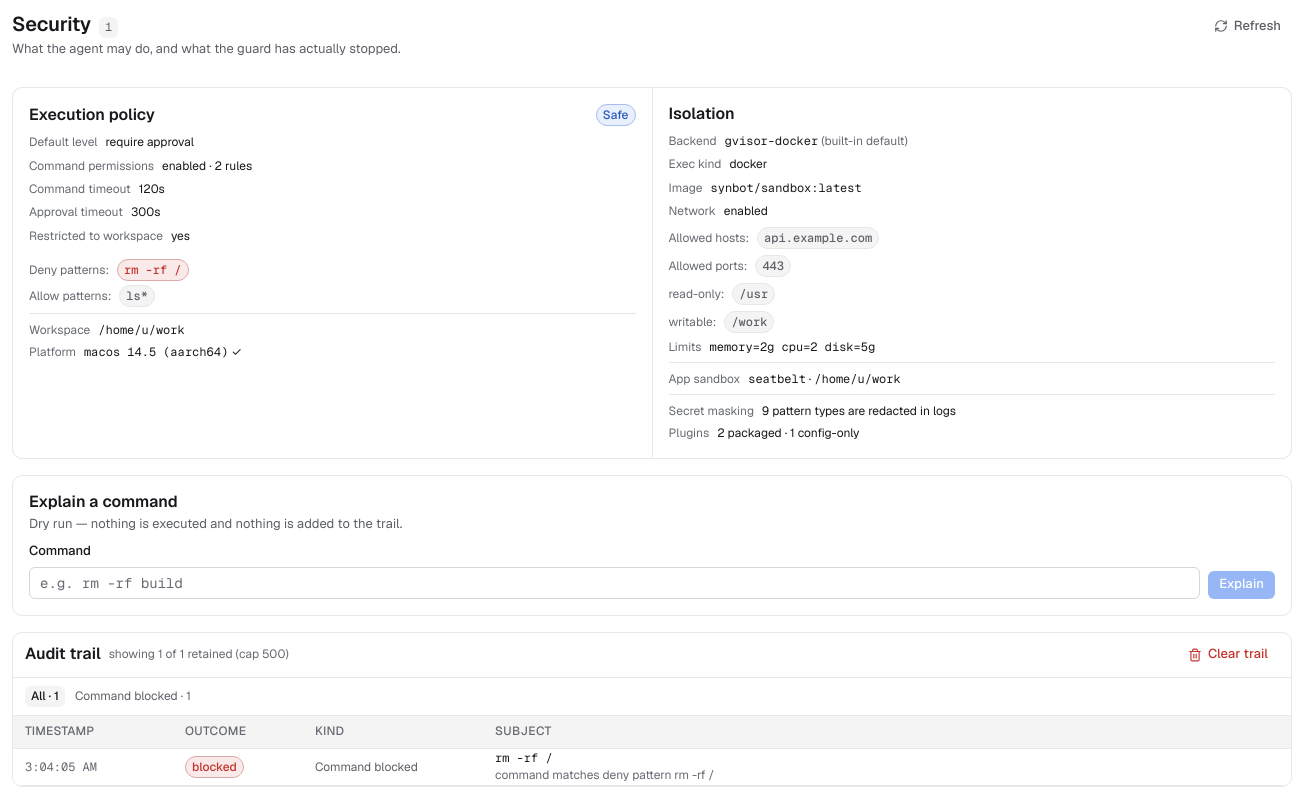
Test: Security › explains a command rejected by the deny patterns
In the field with placeholder "e.g. rm -rf build": (615, 583) 29,567 -> 1200,599, type "rm -rf /"
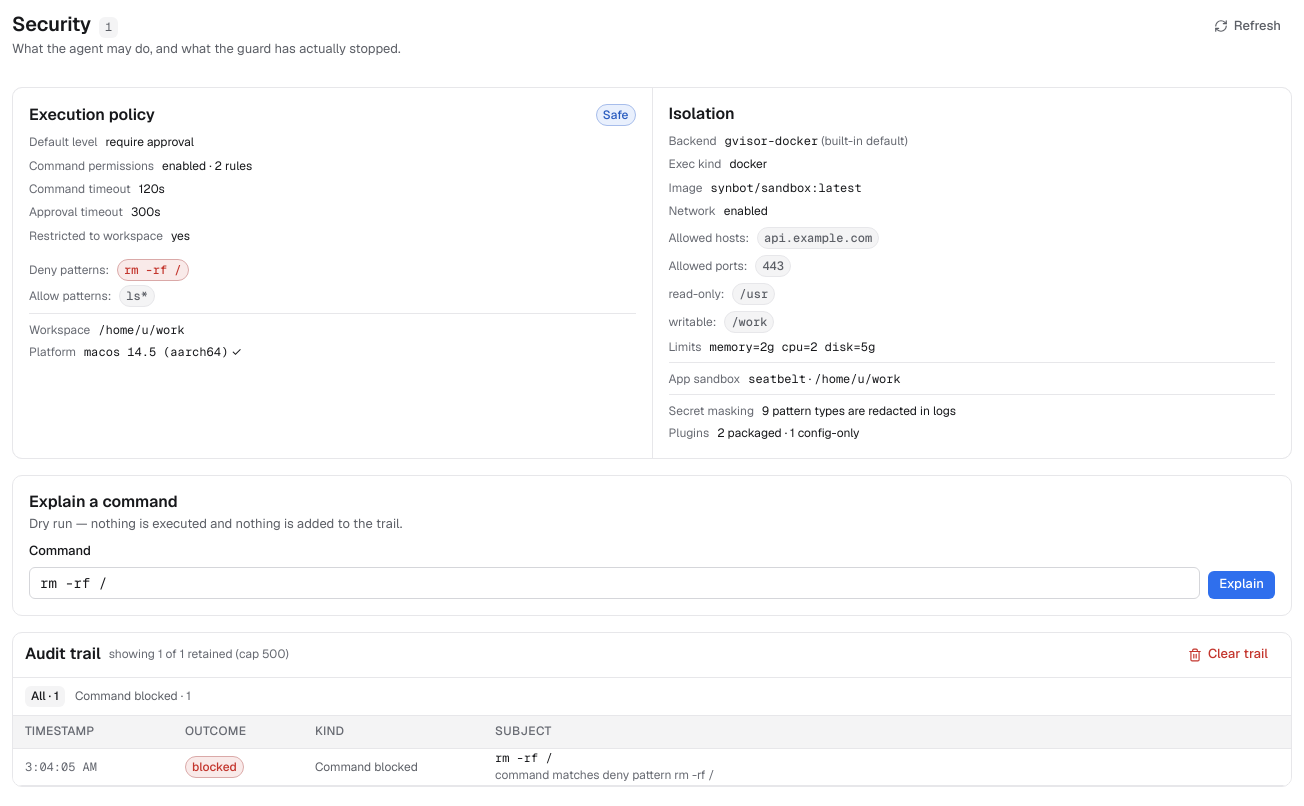
Click the button "Explain": (1242, 585) 1208,571 -> 1275,599
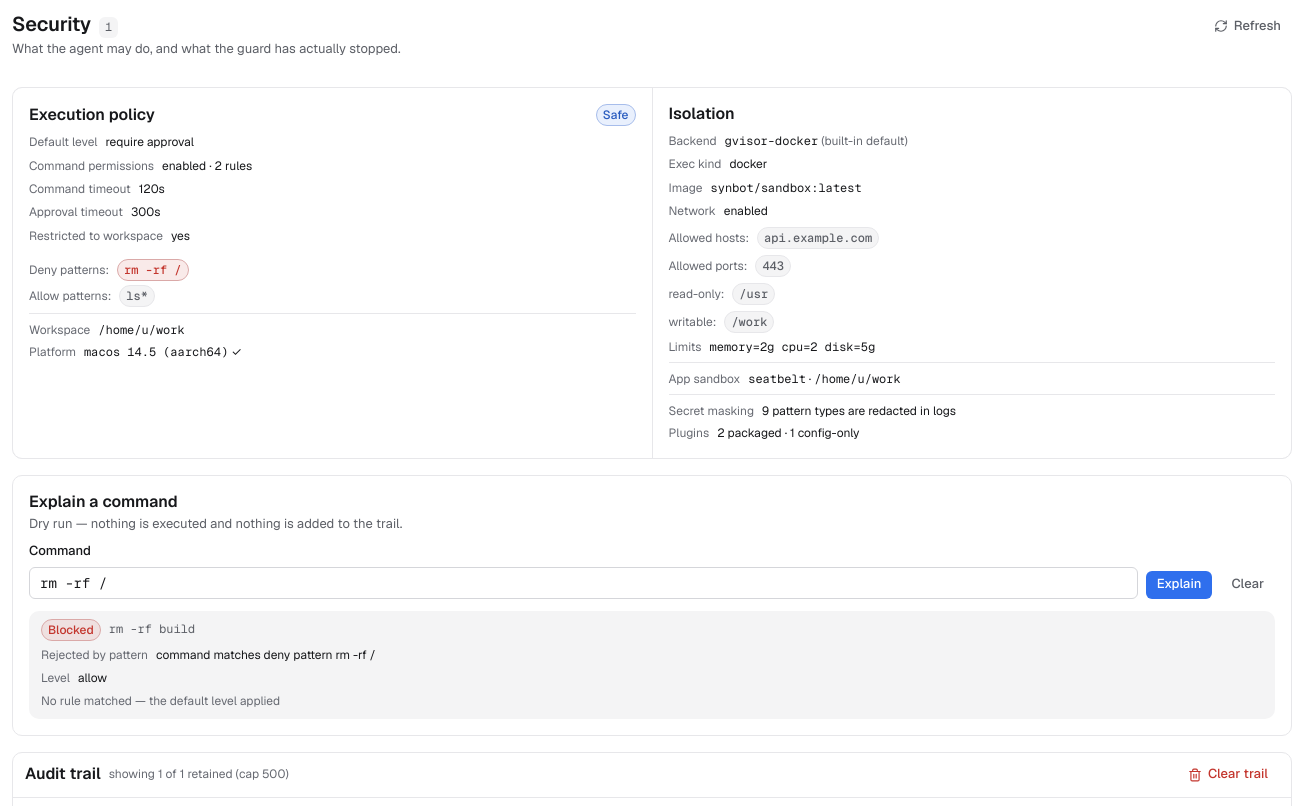
Now the text "No rule matched — the default level applied" is shown, box 41,693 -> 280,709
